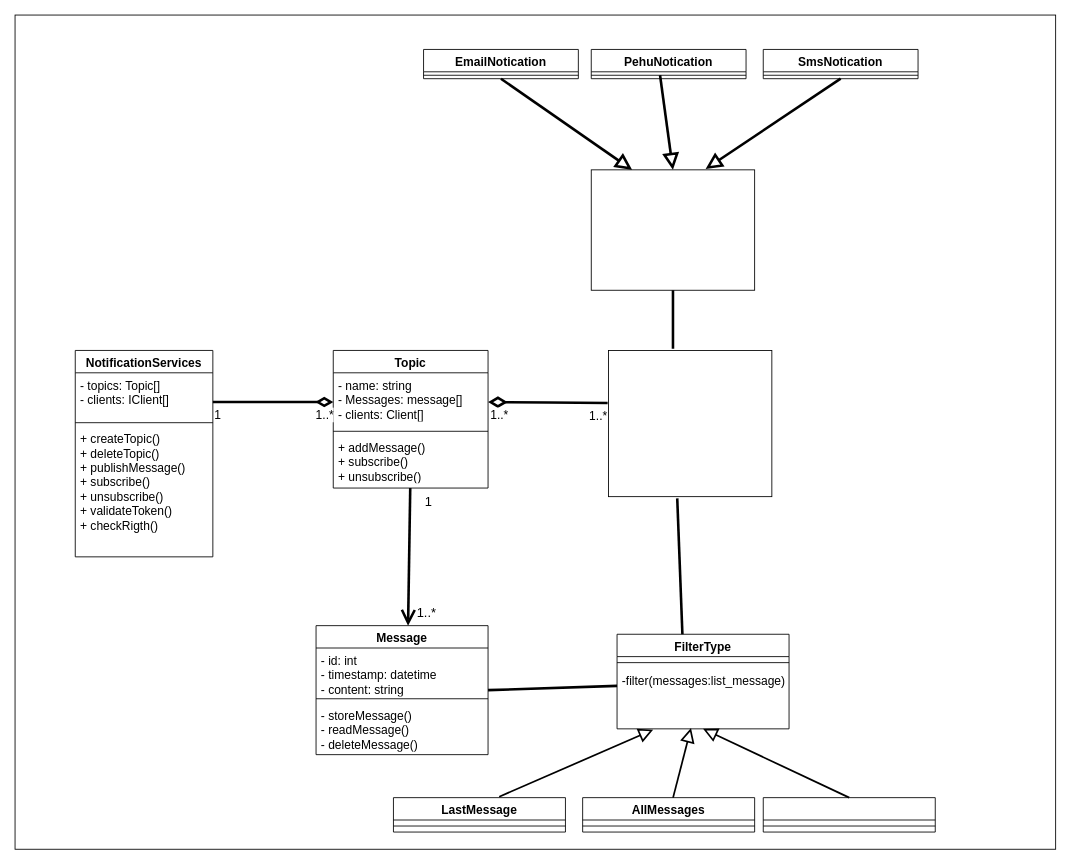
Some shapes in this 1071 by 864 pixel diagram are drawn without their labels. The centre of each missing label's shape, as x and y in pixels:
"<<Interface>> NotificationType - + execute() + notify()" goes at point (672, 229).
"Client - id: int - typeNotification - typeFiltre" goes at point (690, 423).
"CountMessages" goes at point (848, 814).
